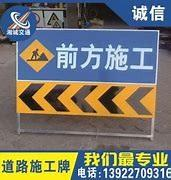sign: (18, 29, 159, 135)
